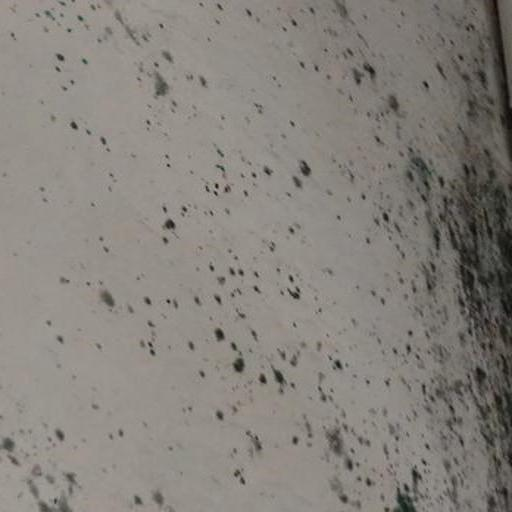stain: (67, 13, 512, 512)
